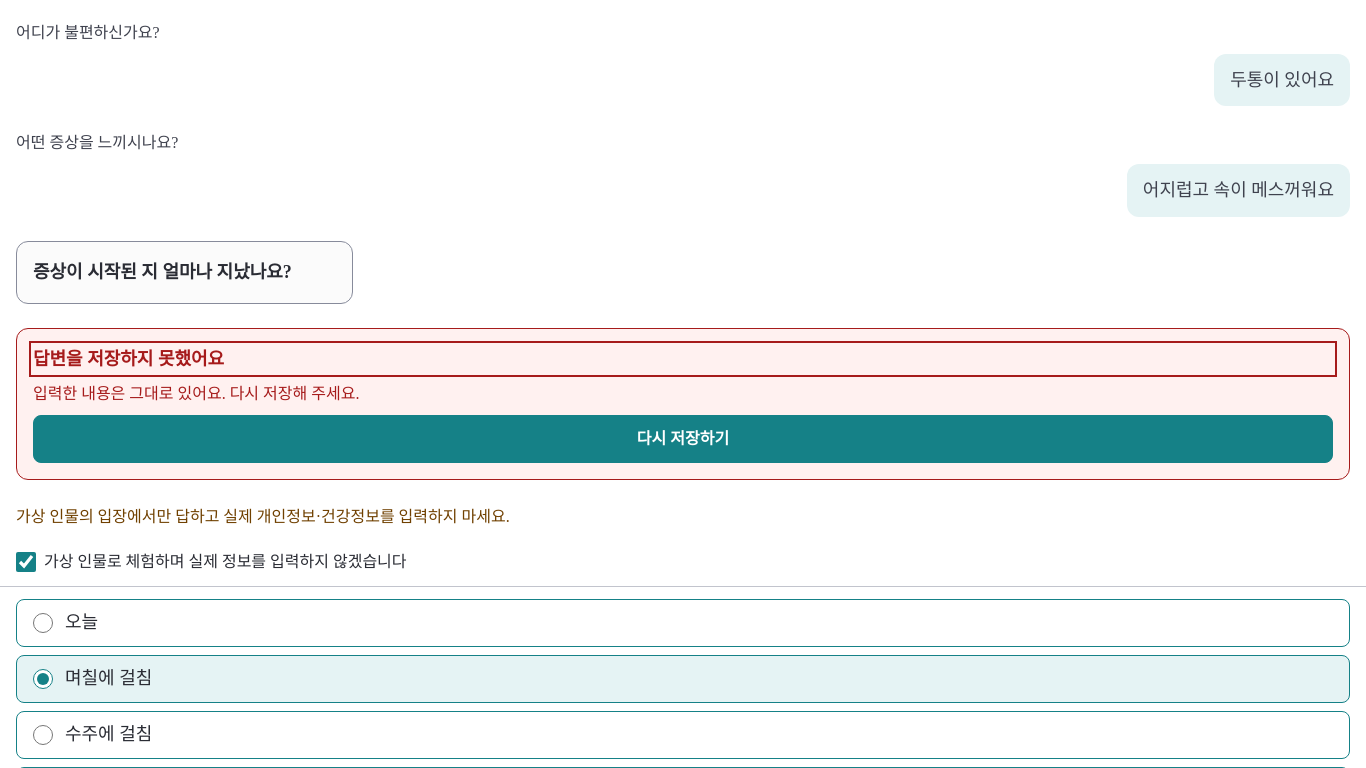
Test case: 문진 상태 전환 › 저장 오류 재시도에서 기존 초안을 유지하고 저장부터 다시 시작한다
The width and height of the screenshot is (1366, 768).
Expected: the radio button labelled "며칠에 걸침" is checked, [33,669,53,689]
Click the button "다시 저장하기" at (683, 439), box [33,415,1333,463]
Wait 2100 ms
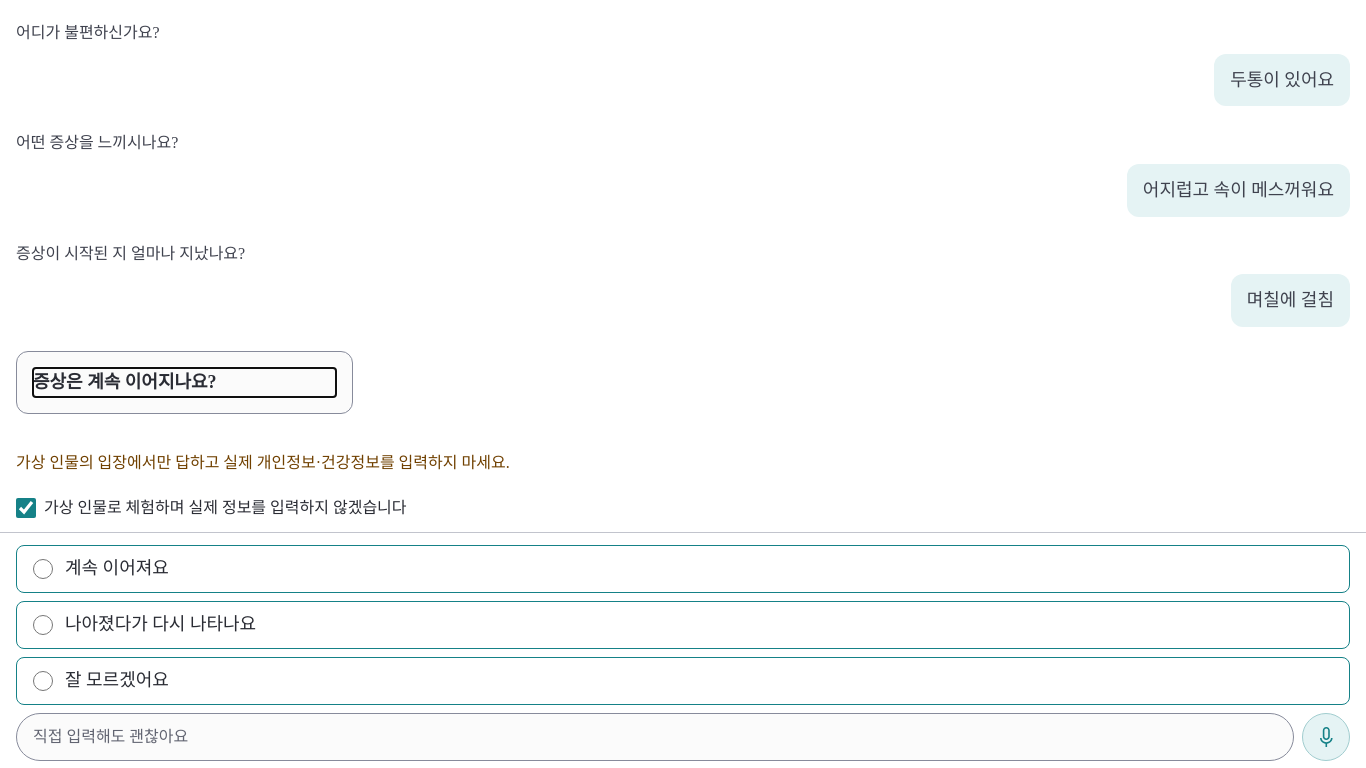
Expected: the heading "증상은 계속 이어지나요?" is shown, [33,372,217,392]
